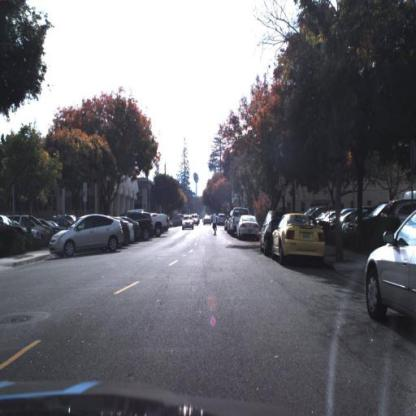car: (364, 211, 416, 327), (271, 210, 335, 269), (49, 213, 124, 262), (380, 193, 415, 228), (257, 207, 277, 256), (141, 210, 165, 244), (238, 212, 261, 243), (146, 212, 170, 238), (181, 212, 199, 233)
pedestrian: (212, 208, 222, 235)
